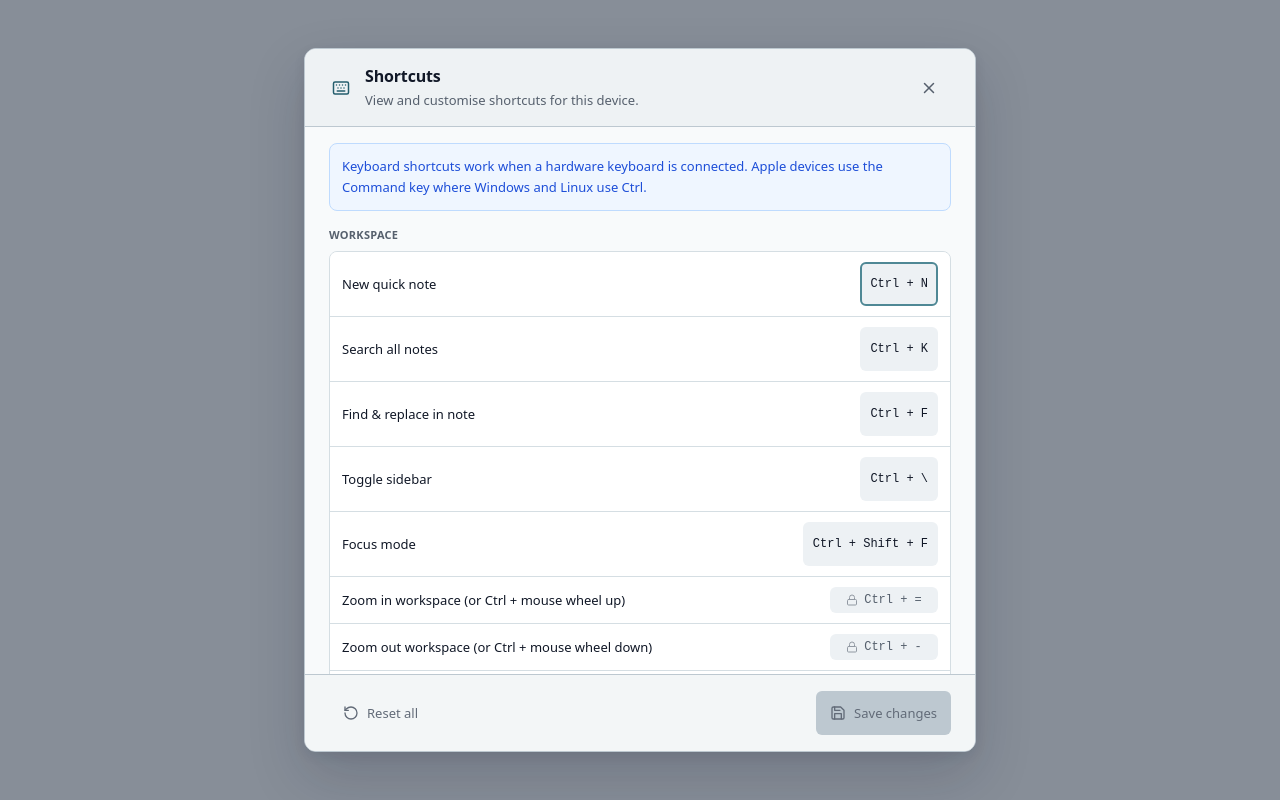
it: editor preferences and shortcuts › keeps shortcut changes dirty and explains when saving fails
Click the button named "Change shortcut for New quick note" at coordinates (899, 284), box x1=860 y1=262 x2=938 y2=306
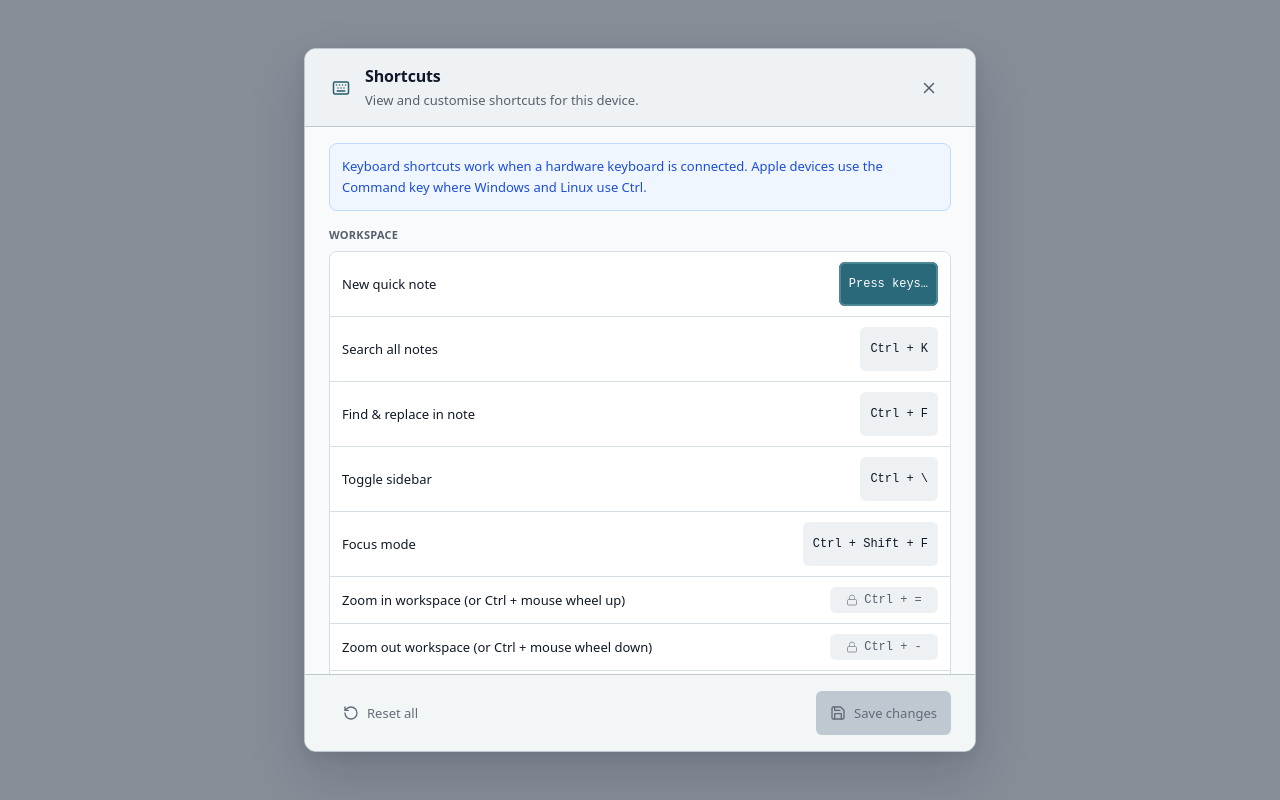
Press j
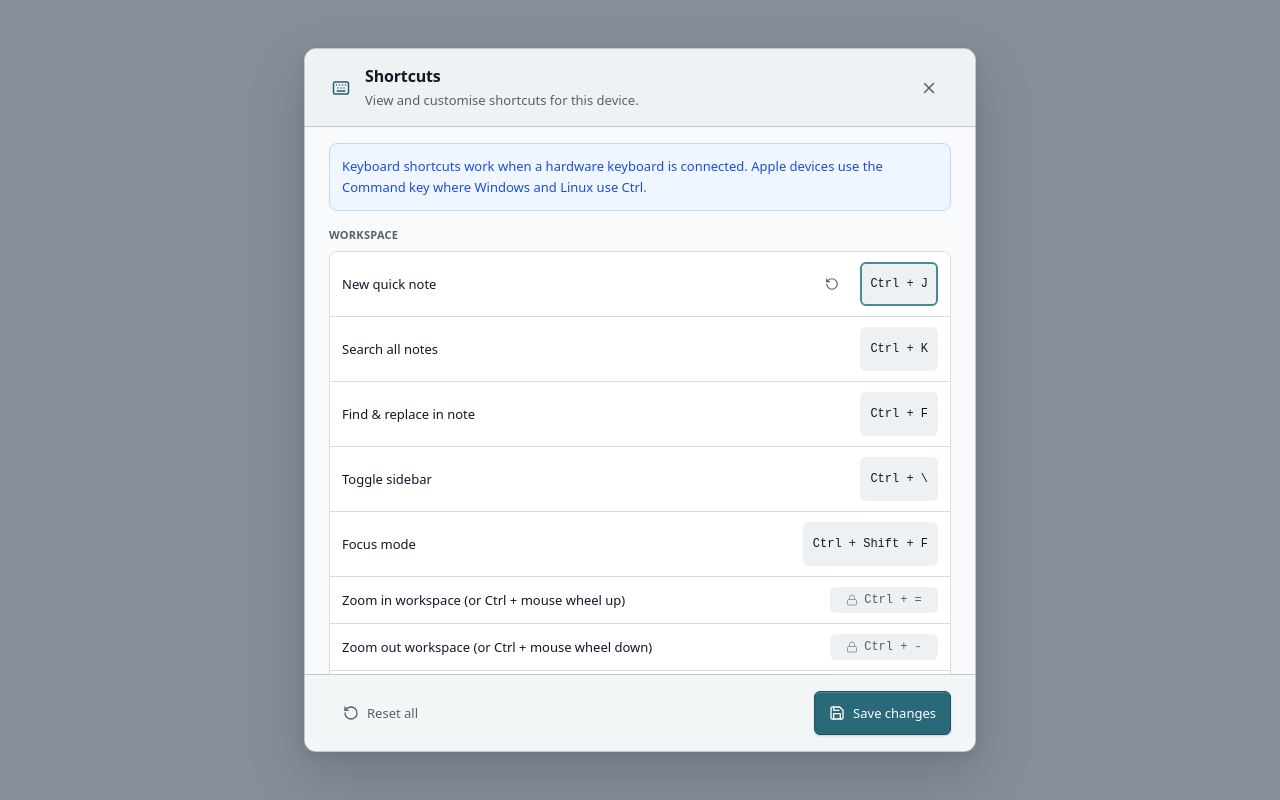
Click the button "Save changes" at coordinates (883, 713), box x1=814 y1=691 x2=951 y2=735
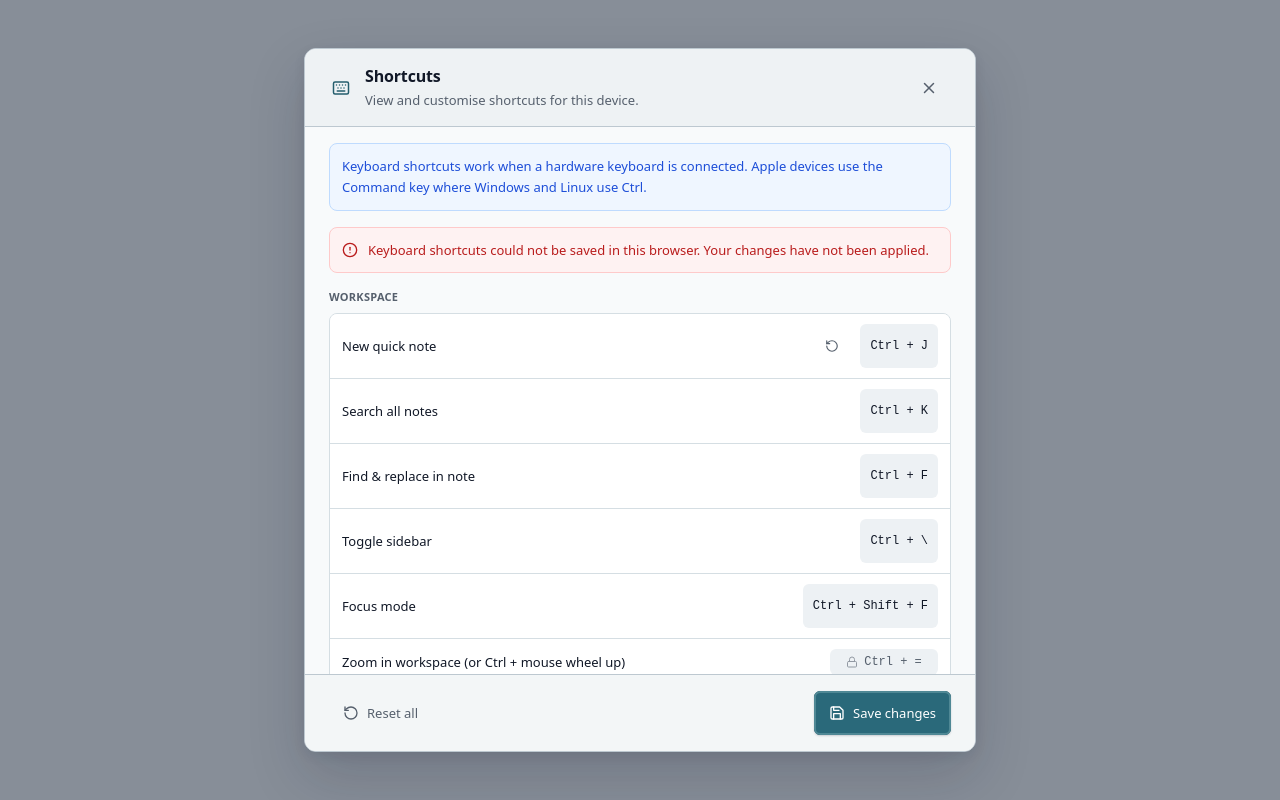
Check: the button "Save changes" is enabled, box x1=814 y1=691 x2=951 y2=735
Check: the message shows "have not been applied", box x1=368 y1=241 x2=929 y2=259
